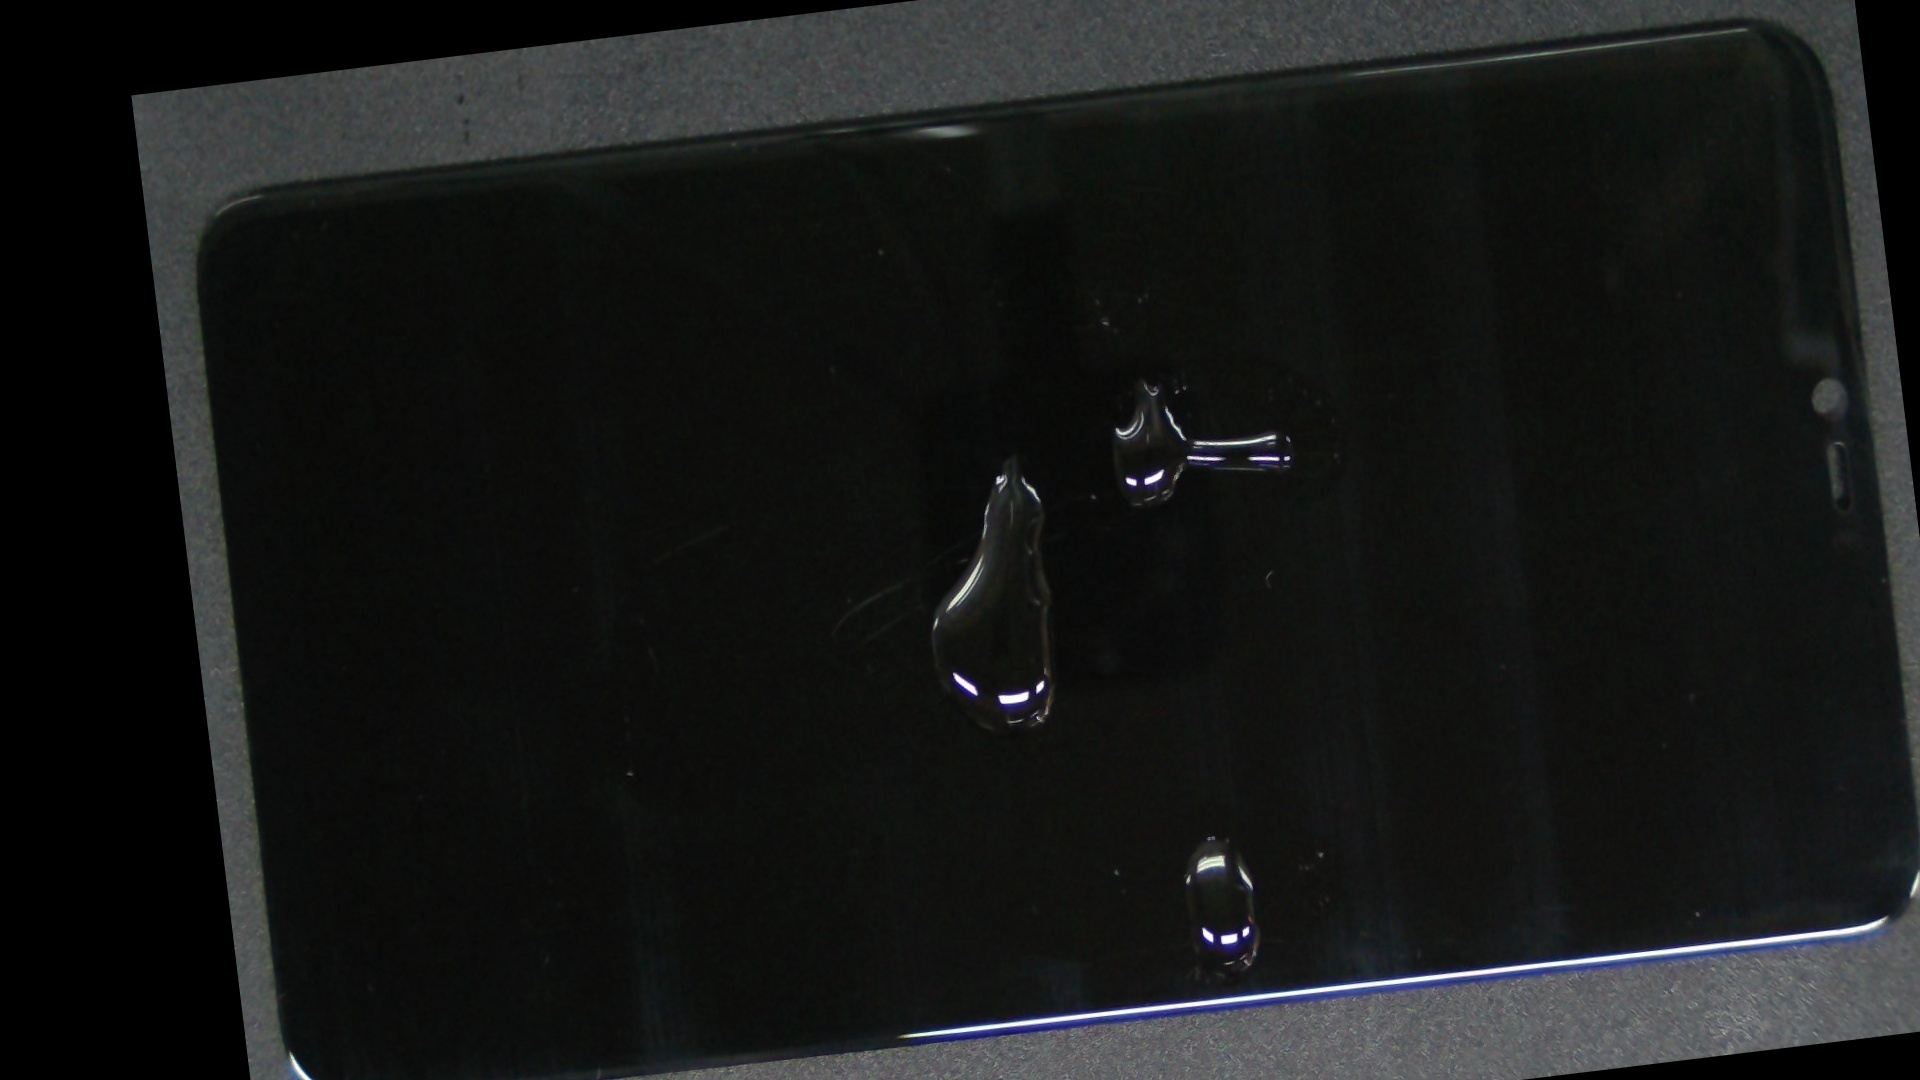oil: (670, 347, 1726, 1080), (637, 120, 1644, 637), (574, 173, 1453, 735)
